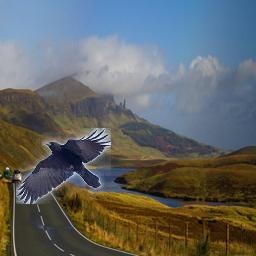Crow: (17, 128, 112, 204)
